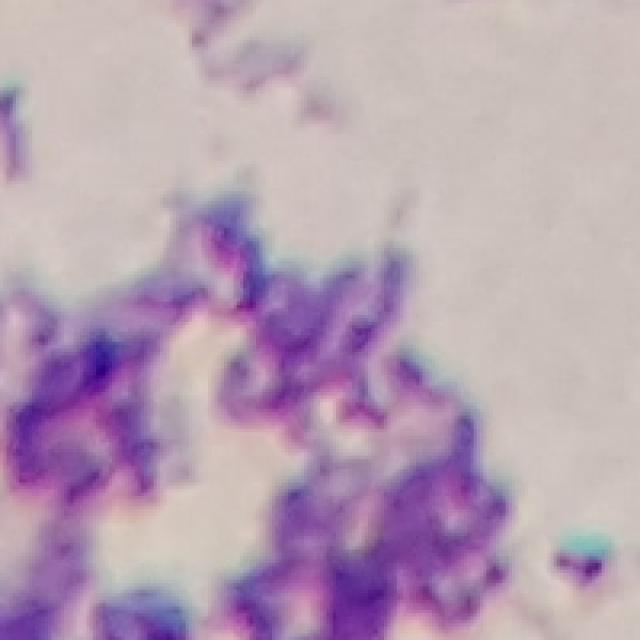non-sperm: (186, 201, 508, 640), (6, 283, 197, 503)
